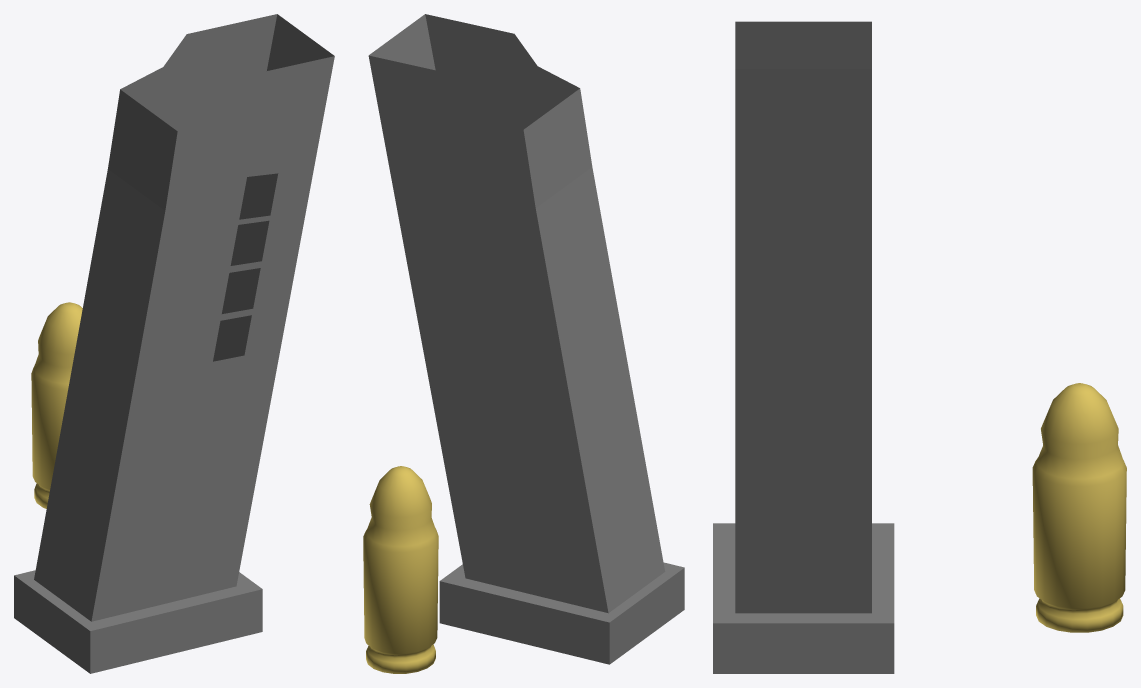
The model's file is cargador.fbx.
3 views of the same model, side by side, from view 1: azimuth 30°, elevation 25°; view 2: azimuth 150°, elevation 25°; view 3: azimuth 270°, elevation 25° (orthographic). The views are drawn at different scales.
Parts seen in each view (by area): view 1: Cube, Circle; view 2: Cube, Circle; view 3: Cube, Circle.
Boxes of the visible parts, x1,y1,x2,y2 form: Cube: [14, 14, 334, 673]; Circle: [31, 302, 82, 508]; Cube: [368, 14, 684, 664]; Circle: [363, 466, 438, 673]; Cube: [713, 21, 894, 673]; Circle: [1032, 383, 1126, 632].
Bounding box in the file's own units: 384 × 797 × 457.
